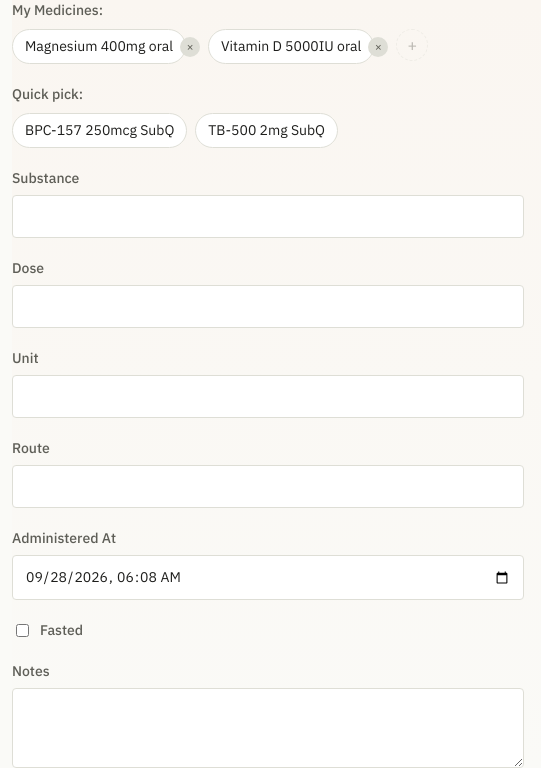
InterventionForm › shows loading state while submitting
Note: Fill via chip
Click the button "BPC-157 250mcg SubQ": (100, 130) 12,113 -> 187,148
(page scrolled)
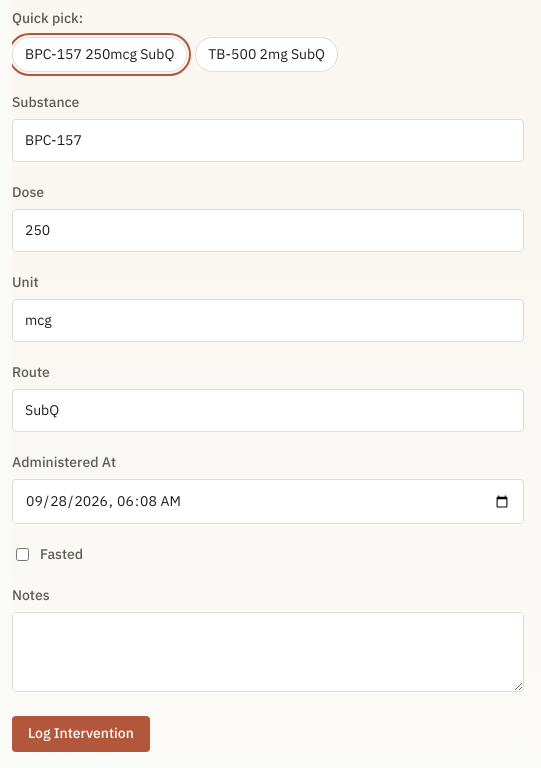
Click the button "Log Intervention": (81, 734) 12,716 -> 150,752
(page scrolled)
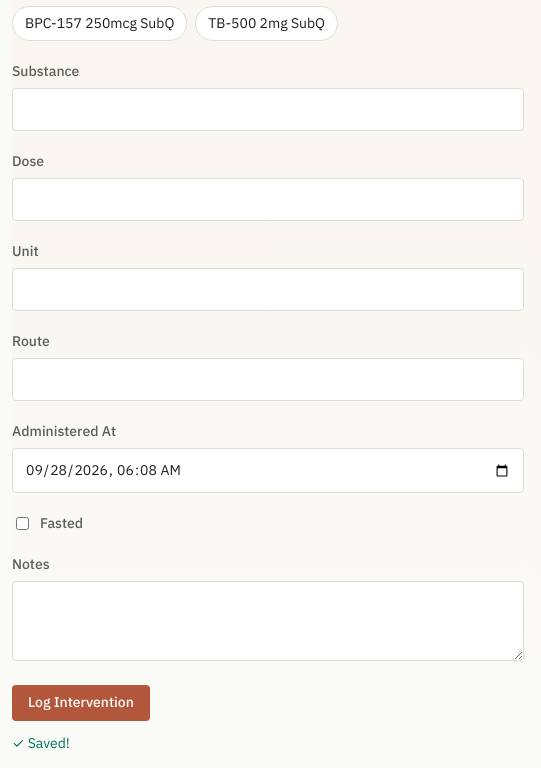
Check: the text "Saved!" is shown, box 28,734 -> 70,752
